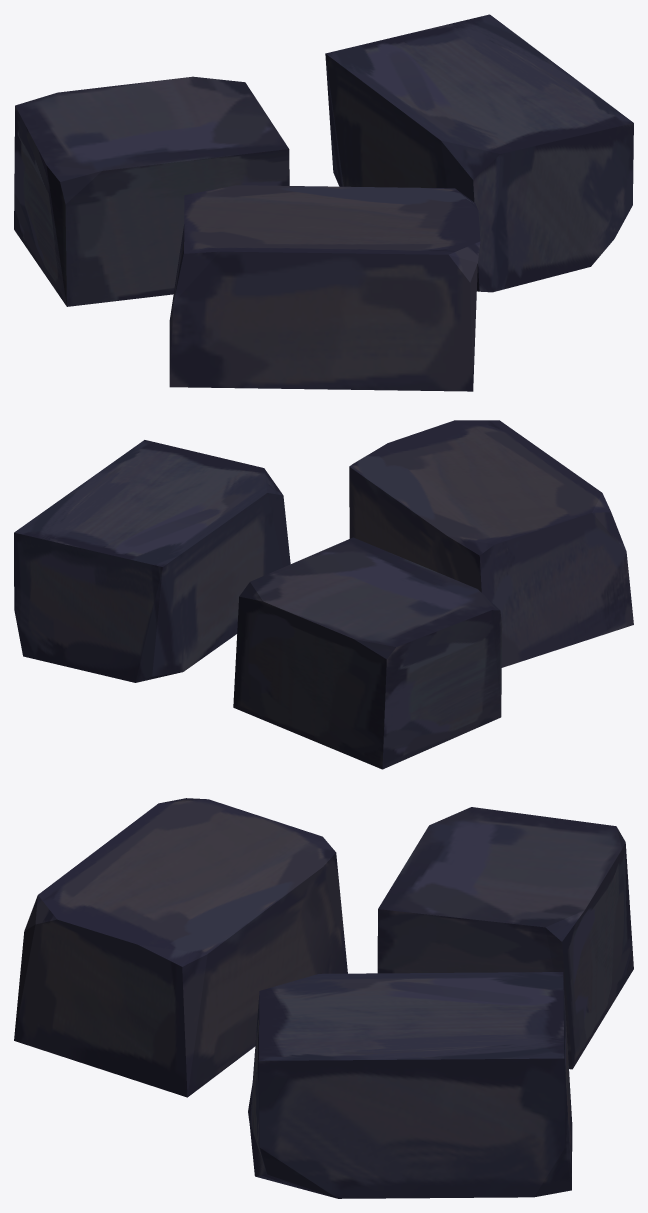
The model's file is Debris06.fbx.
The picture shows the model from 3 angles, top to bottom: view 1: azimuth 30°, elevation 25°; view 2: azimuth 150°, elevation 25°; view 3: azimuth 270°, elevation 25°; orthographic projection. The views are drawn at different scales.
Parts seen in each view (by area): view 1: Debris06; view 2: Debris06; view 3: Debris06.
Part boxes in pixels (box(x1,y1,x2,y2)): Debris06: box(14, 14, 633, 391); Debris06: box(14, 420, 633, 769); Debris06: box(14, 798, 633, 1198).
Bounding box in the file's own units: 1.68 × 0.4781 × 1.69.
Materials: 1 (1 with a texture image).
